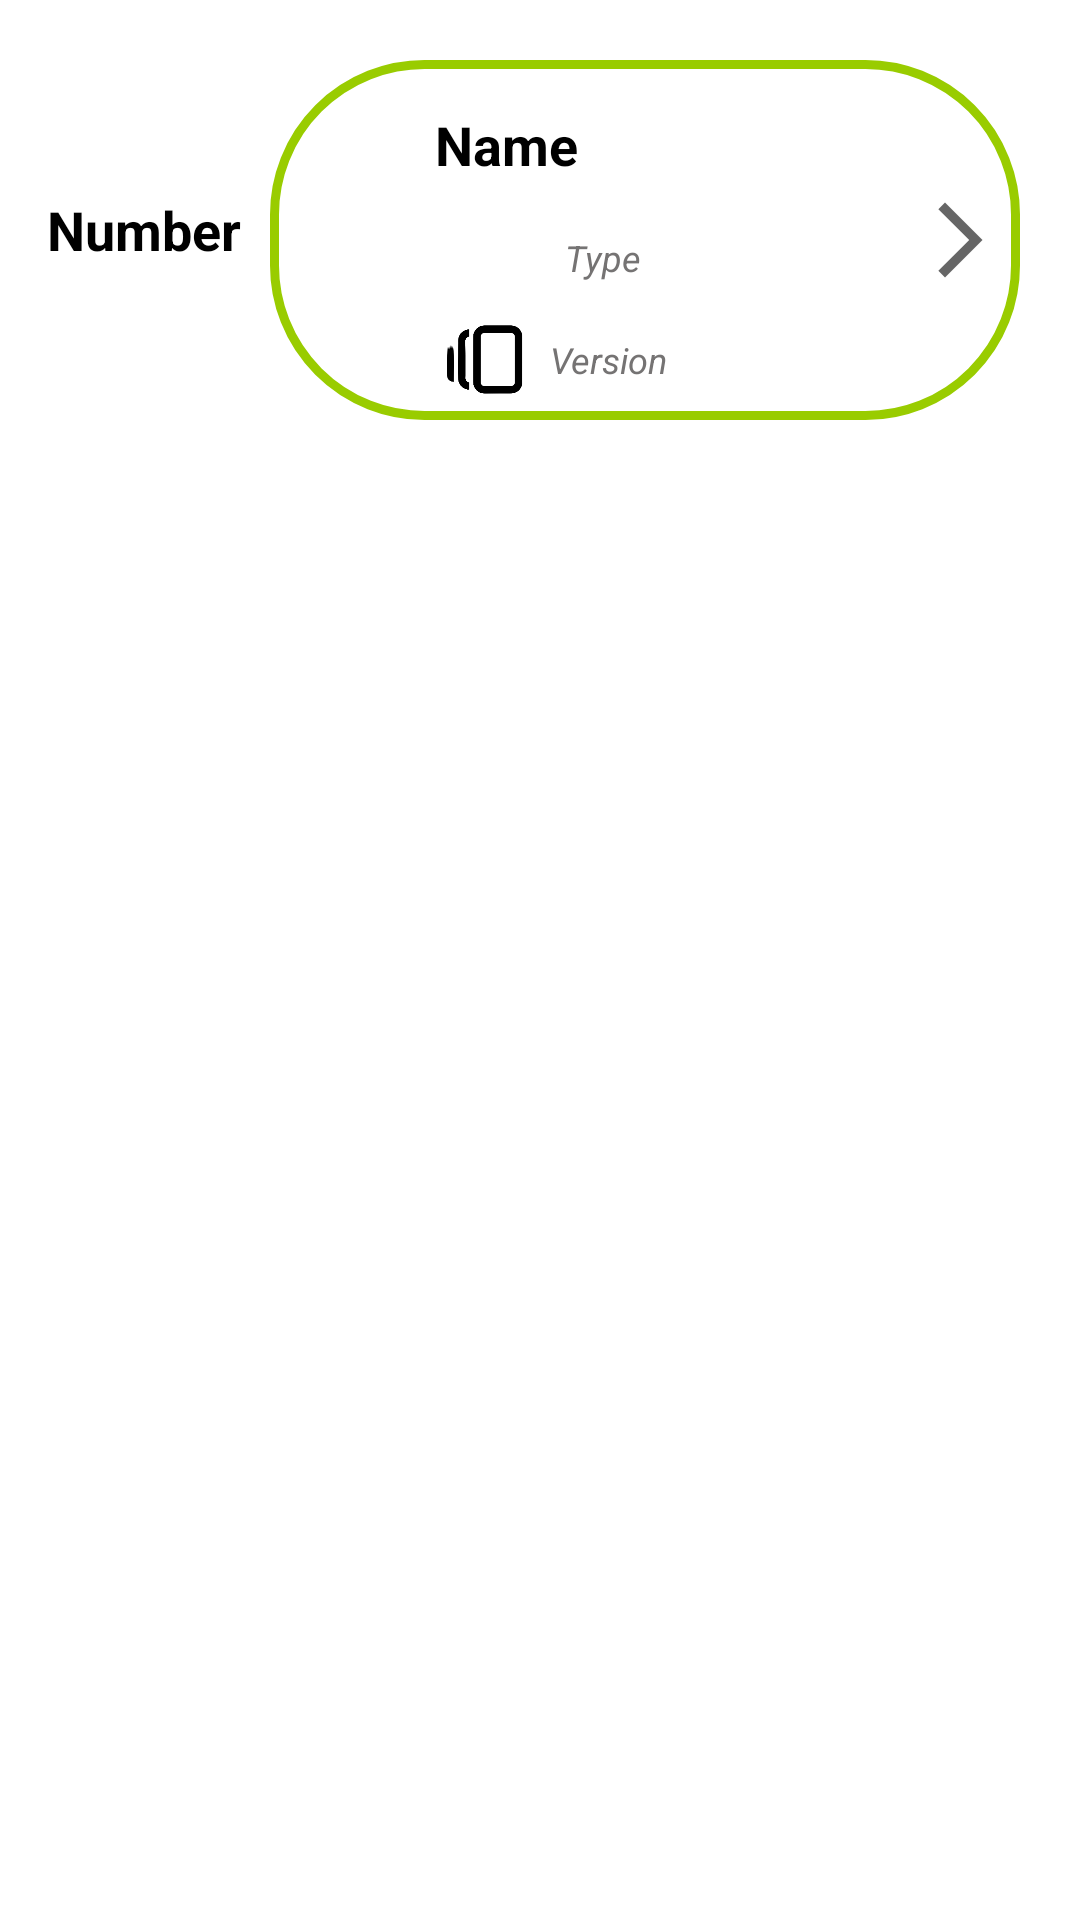

Icons on this 1080w x 1920h Android screen, each with the point to tap as (x,y):
arrow forward: (960,240)
